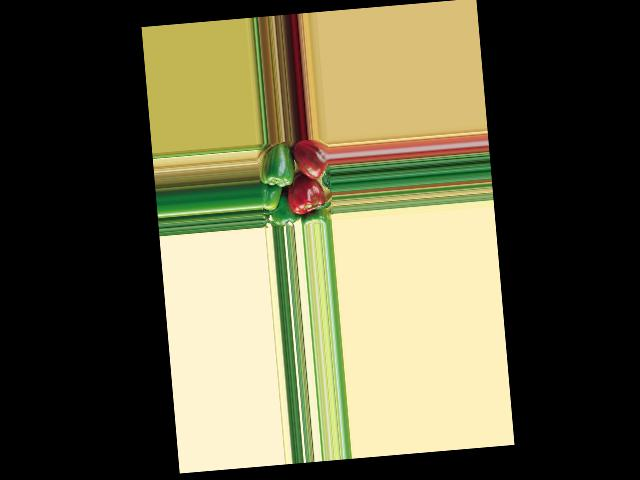bell_pepper: (294, 138, 329, 180)
